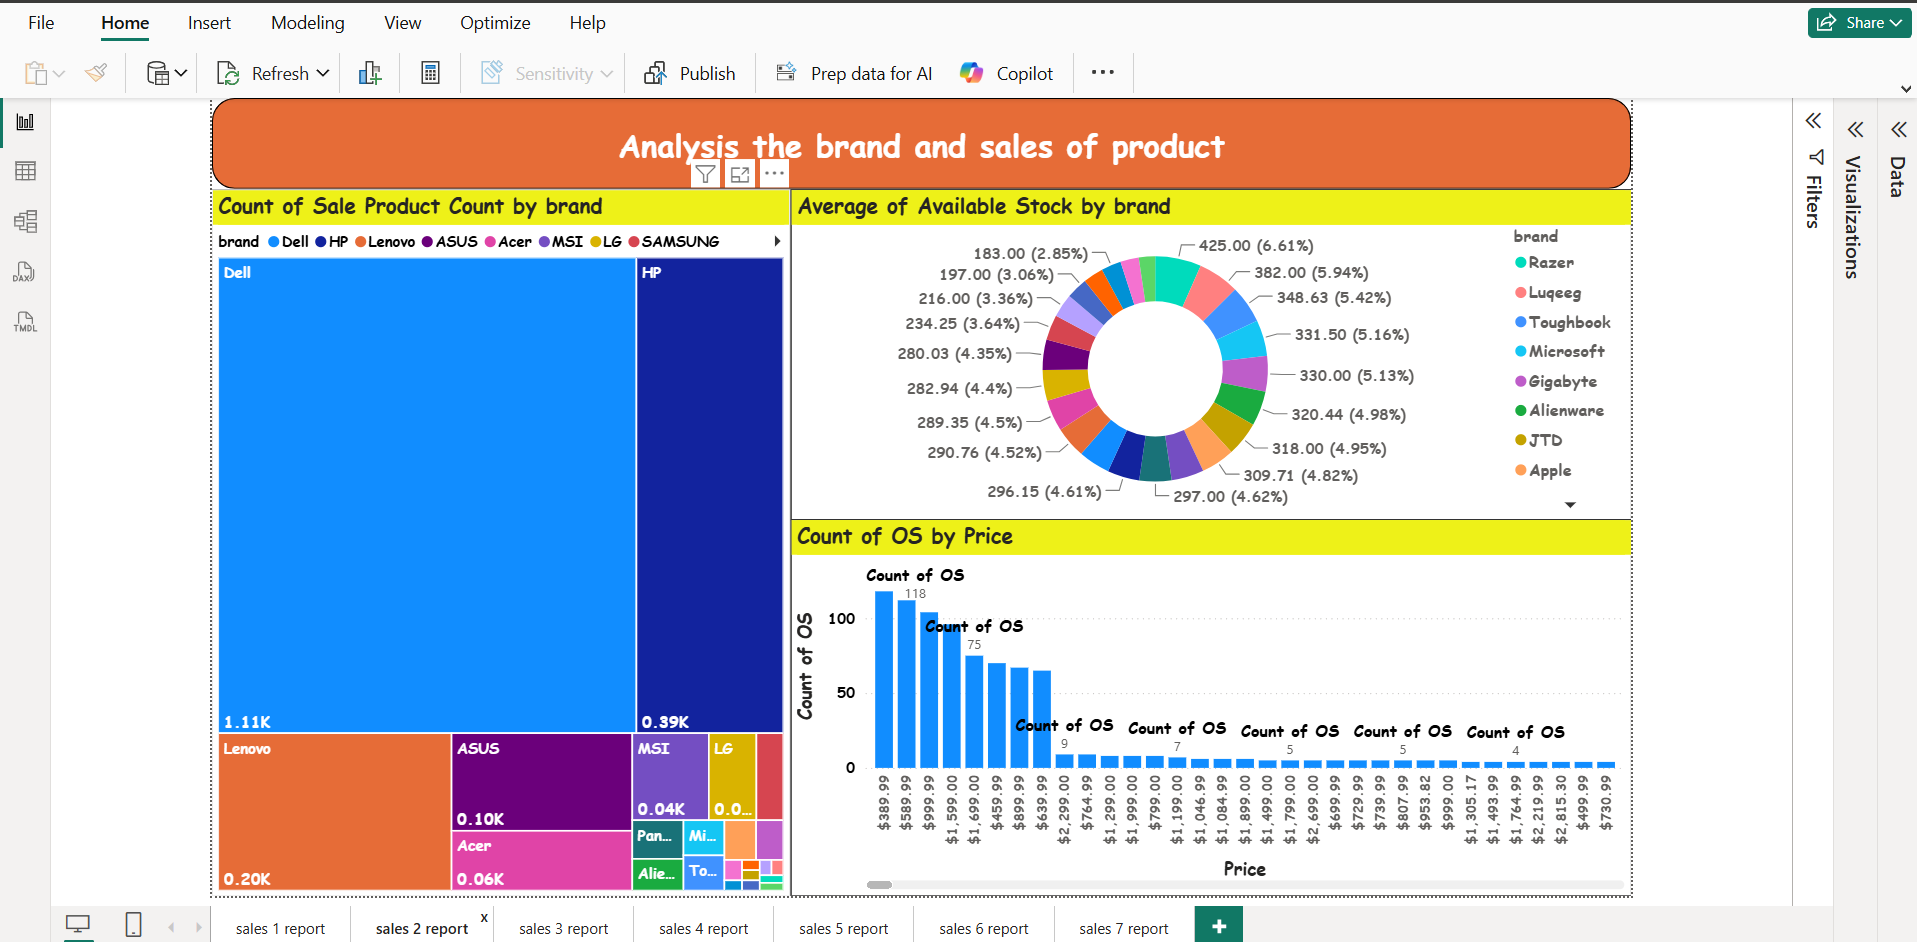

The dashboard page shown, as its layout file describes it:
{"tool":"powerbi","page":{"name":"sales 2 report","canvas":[1280,720],"ordinal":1},"visuals":[{"type":"shape","box":[0,0,1279.7,82],"z":0},{"type":"treemap","fields":{"Group":["amazon_laptop sales report project.brand"],"Values":["CountNonNull(amazon_laptop sales report project.Sale Product Count)"]},"box":[0,82,521.5,638.5],"z":1000},{"type":"donutChart","fields":{"Y":["Avg(amazon_laptop sales report project.Available Stock)"],"Category":["amazon_laptop sales report project.brand"]},"box":[521.5,82,758.1,298.4],"z":2000},{"type":"columnChart","fields":{"Category":["amazon_laptop sales report project.Price"],"Y":["CountNonNull(amazon_laptop sales report project.OS)"]},"box":[522,380,758,340],"z":3000}]}

Visuals, with their boxes on the page's 1280x720 design canvas (x1, y1, x2, y2). These are canvas units, not pixel positions in the 1917x942 screenshot, which may show the page scaled, cropped or inside an application window:
shape: [0,0,1280,82]
treemap - amazon_laptop sales report project.brand x CountNonNull(amazon_laptop sales report project.Sale Product Count): [0,82,522,720]
donutChart - Avg(amazon_laptop sales report project.Available Stock) x amazon_laptop sales report project.brand: [522,82,1280,380]
columnChart - amazon_laptop sales report project.Price x CountNonNull(amazon_laptop sales report project.OS): [522,380,1280,720]
